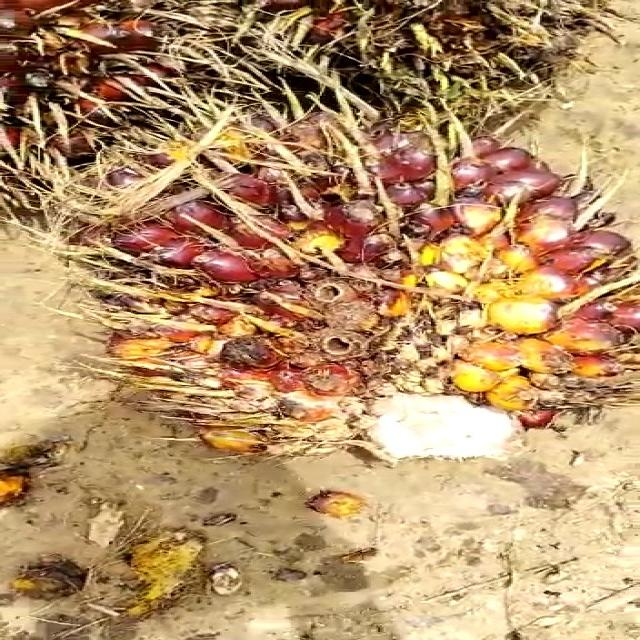palm oil: (81, 107, 640, 510)
